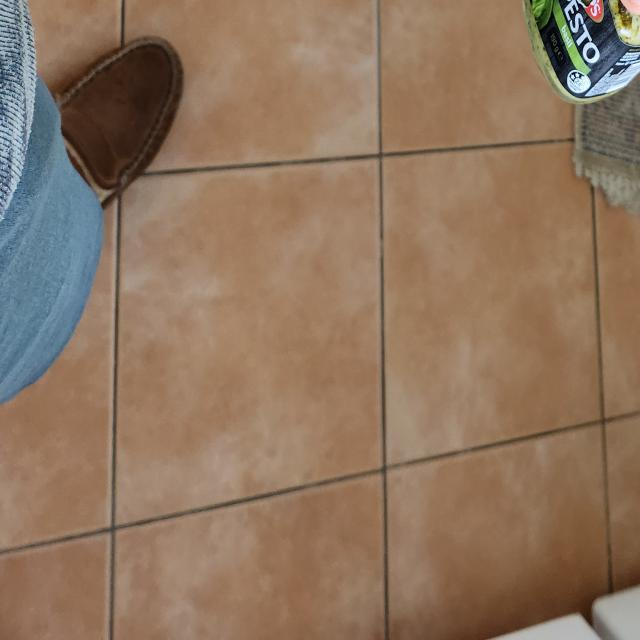basil pesto: (528, 0, 640, 105)
